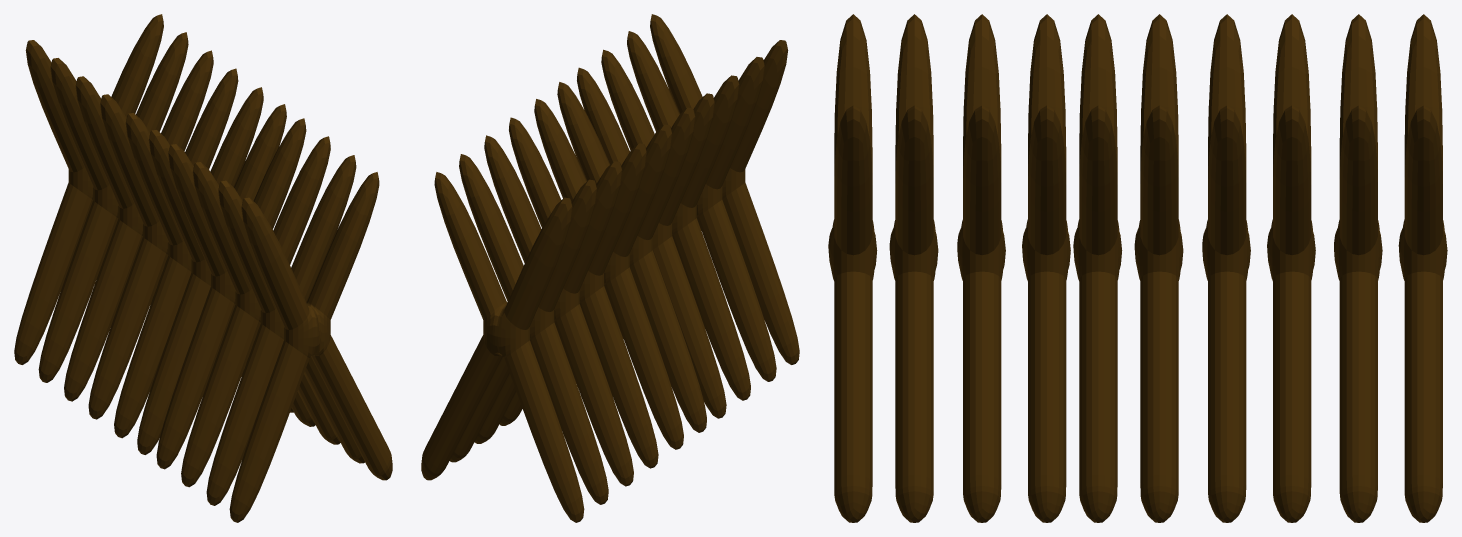
File: palisade.fbx
3 views of the same model, side by side, from view 1: azimuth 30°, elevation 25°; view 2: azimuth 150°, elevation 25°; view 3: azimuth 270°, elevation 25° (orthographic). The views are drawn at different scales.
Visible parts, largest first — view 1: Cube.004, Cube.003, Cube.002, Cube.001, Cube.007, Cube.011, Cube.010, Cube.009, Cube.006, Cube.005; view 2: Cube.010, Cube.011, Cube.009, Cube.007, Cube.003, Cube.006, Cube.002, Cube.005, Cube.004, Cube.001; view 3: Cube.006, Cube.003, Cube.005, Cube.004, Cube.010, Cube.011, Cube.007, Cube.002, Cube.009, Cube.001.
Boxes of the visible parts, <box> form: Cube.004: <box>229,172,392,522</box>; Cube.003: <box>206,155,364,505</box>; Cube.002: <box>181,136,340,487</box>; Cube.001: <box>156,118,315,469</box>; Cube.007: <box>88,68,244,419</box>; Cube.011: <box>38,32,188,382</box>; Cube.010: <box>14,14,163,364</box>; Cube.009: <box>64,50,213,401</box>; Cube.006: <box>114,87,263,438</box>; Cube.005: <box>137,104,293,454</box>; Cube.010: <box>421,172,584,522</box>; Cube.011: <box>449,154,608,504</box>; Cube.009: <box>475,135,633,486</box>; Cube.007: <box>499,117,658,468</box>; Cube.003: <box>620,31,776,381</box>; Cube.006: <box>534,99,683,449</box>; Cube.002: <box>601,49,750,400</box>; Cube.005: <box>557,82,706,432</box>; Cube.004: <box>650,14,799,364</box>; Cube.001: <box>577,67,726,418</box>; Cube.006: <box>1134,14,1183,522</box>; Cube.003: <box>889,14,938,522</box>; Cube.005: <box>1073,14,1122,522</box>; Cube.004: <box>828,14,877,522</box>; Cube.010: <box>1398,14,1447,522</box>; Cube.011: <box>1334,14,1382,522</box>; Cube.007: <box>1202,14,1250,522</box>; Cube.002: <box>957,14,1005,522</box>; Cube.009: <box>1267,14,1315,522</box>; Cube.001: <box>1022,14,1070,522</box>.
Bounding box in the file's own units: 102 × 196 × 258.
